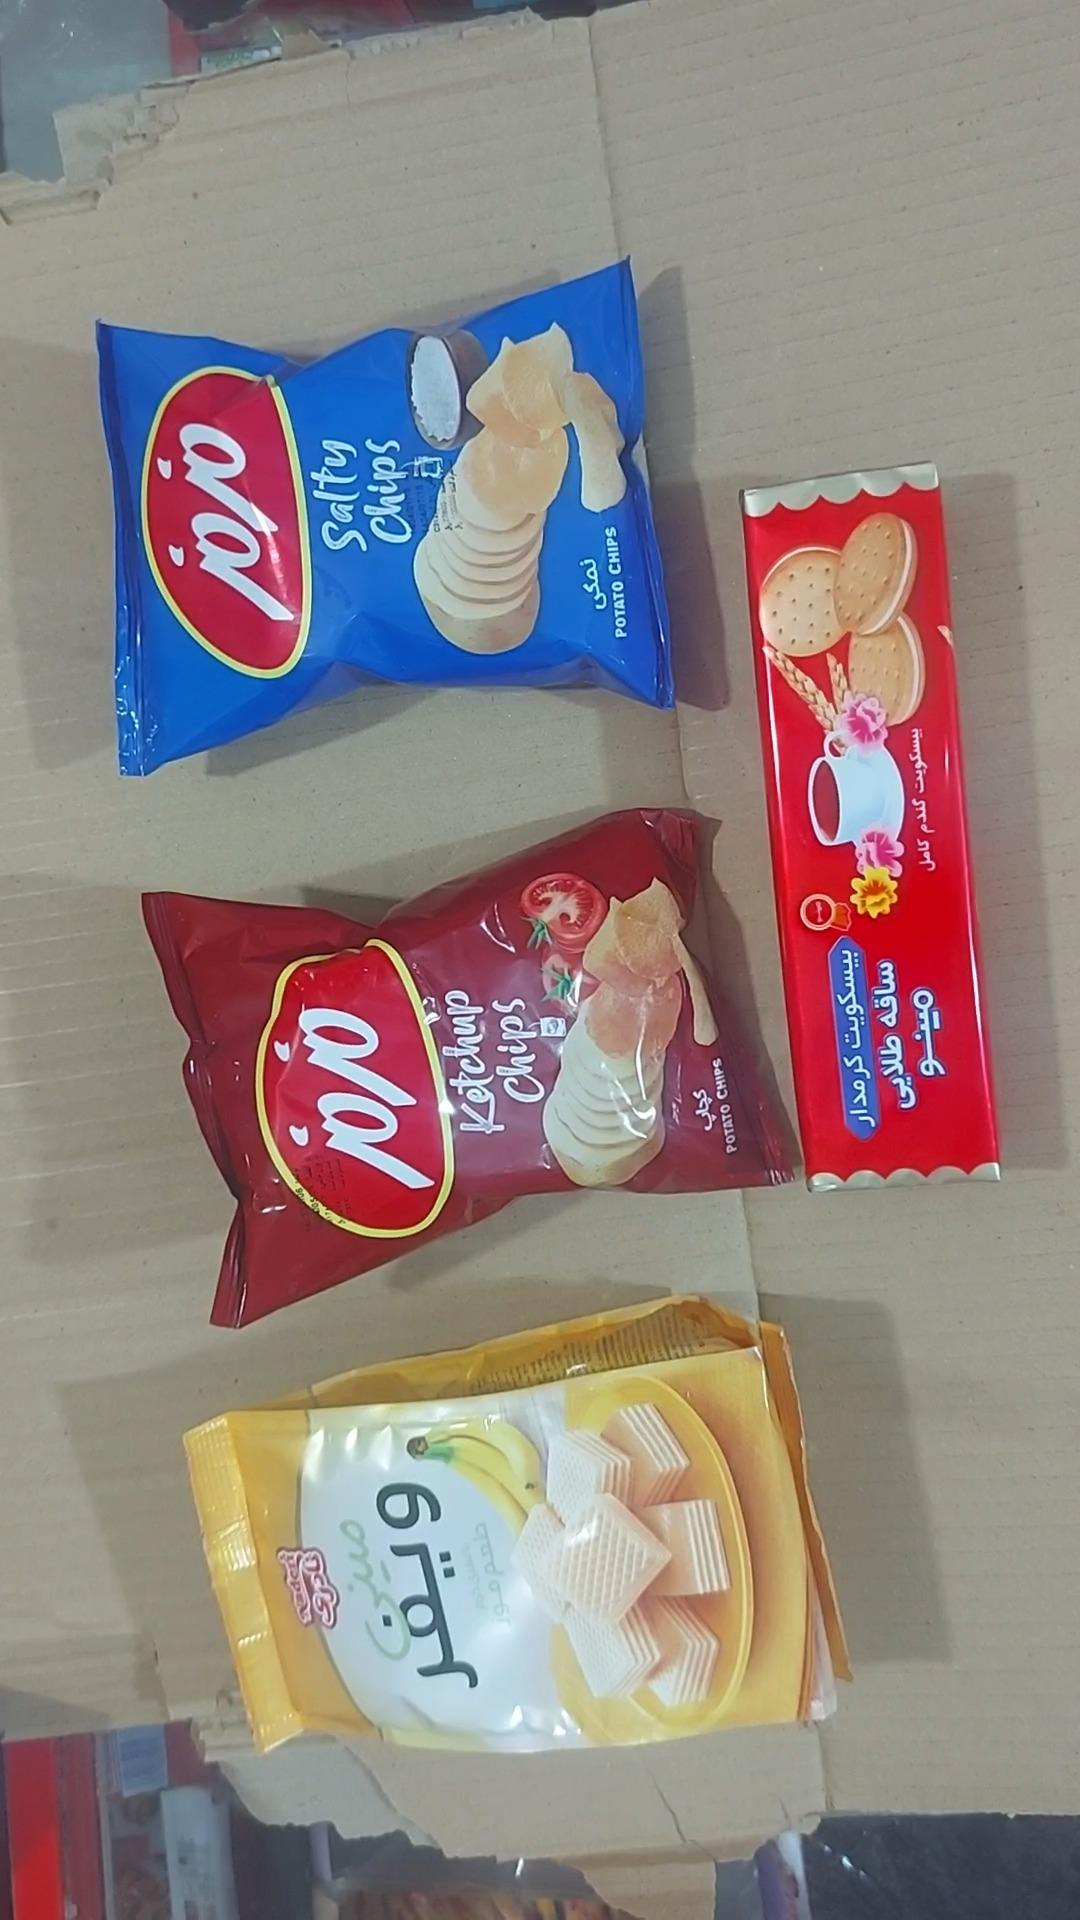Maz Maz ketchup chips: (142, 808, 793, 1327)
Maz Maz salty chips: (98, 262, 673, 775)
Minoo cream biscuit: (742, 464, 997, 1188)
Naderi mini wafer: (185, 1298, 851, 1754)
